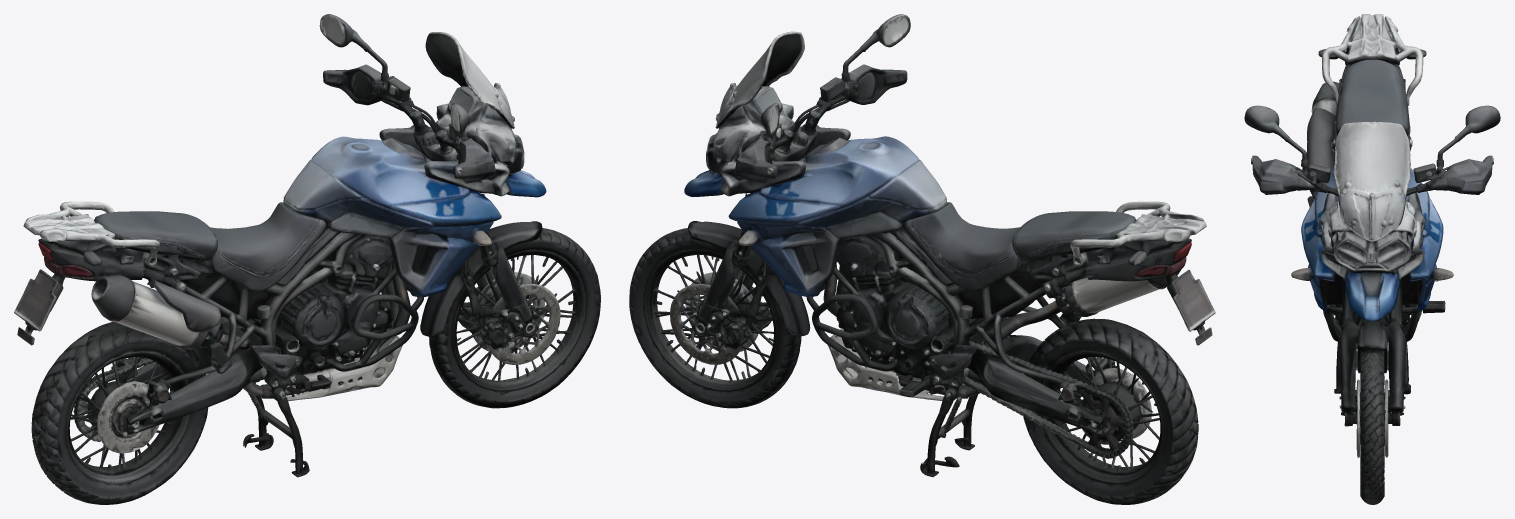
Rendered from ventura-gt.glb.
3 renders of one model, left to right at view 1: azimuth 30°, elevation 25°; view 2: azimuth 150°, elevation 25°; view 3: azimuth 270°, elevation 25°, orthographic. The views are drawn at different scales.
Visible parts, largest first — view 1: tripo_node_c2b63b15-9d2d-43da-8076-55d6ed1552d7; view 2: tripo_node_c2b63b15-9d2d-43da-8076-55d6ed1552d7; view 3: tripo_node_c2b63b15-9d2d-43da-8076-55d6ed1552d7.
Part boxes in pixels (x1=…): tripo_node_c2b63b15-9d2d-43da-8076-55d6ed1552d7: x1=14, y1=14, x2=600, y2=504; tripo_node_c2b63b15-9d2d-43da-8076-55d6ed1552d7: x1=629, y1=14, x2=1215, y2=504; tripo_node_c2b63b15-9d2d-43da-8076-55d6ed1552d7: x1=1244, y1=14, x2=1500, y2=504.
Bounding box in the file's own units: 0.9818 × 0.6265 × 0.4188.
Materials: 1 (1 with a texture image).
